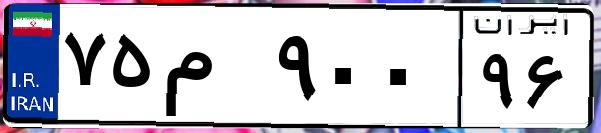0: (385, 28, 445, 110), (330, 28, 385, 110)
5: (110, 28, 158, 98)
6: (525, 38, 570, 115)
7: (57, 26, 110, 100)
9: (270, 28, 330, 110), (475, 38, 525, 113)
م: (158, 20, 270, 120)
